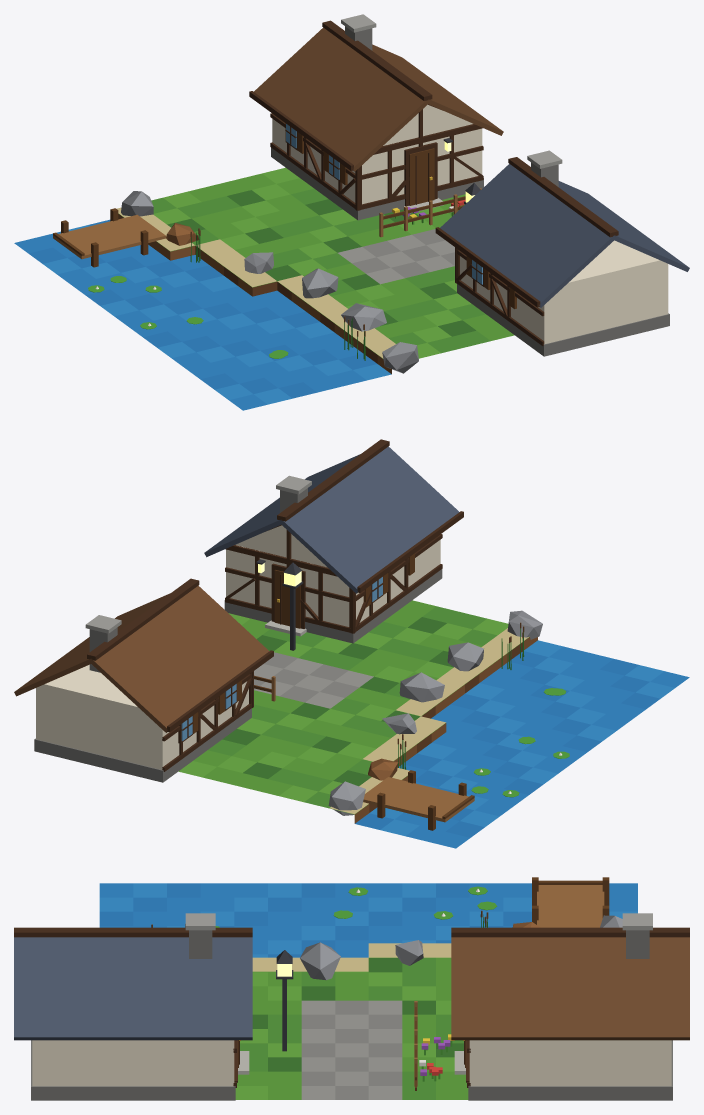
Rendered from chunk_0_2.glb.
The picture shows the model from 3 angles, top to bottom: view 1: azimuth 30°, elevation 25°; view 2: azimuth 150°, elevation 25°; view 3: azimuth 270°, elevation 25°; orthographic projection. The views are drawn at different scales.
Parts seen in each view (by area): view 1: chunk_0_2; view 2: chunk_0_2; view 3: chunk_0_2.
Boxes of the visible parts, bbox=[...] form: chunk_0_2: bbox=[14, 14, 689, 410]; chunk_0_2: bbox=[14, 439, 689, 848]; chunk_0_2: bbox=[14, 877, 689, 1100].
Bounding box in the file's own units: 16.55 × 5.44 × 20.1.
